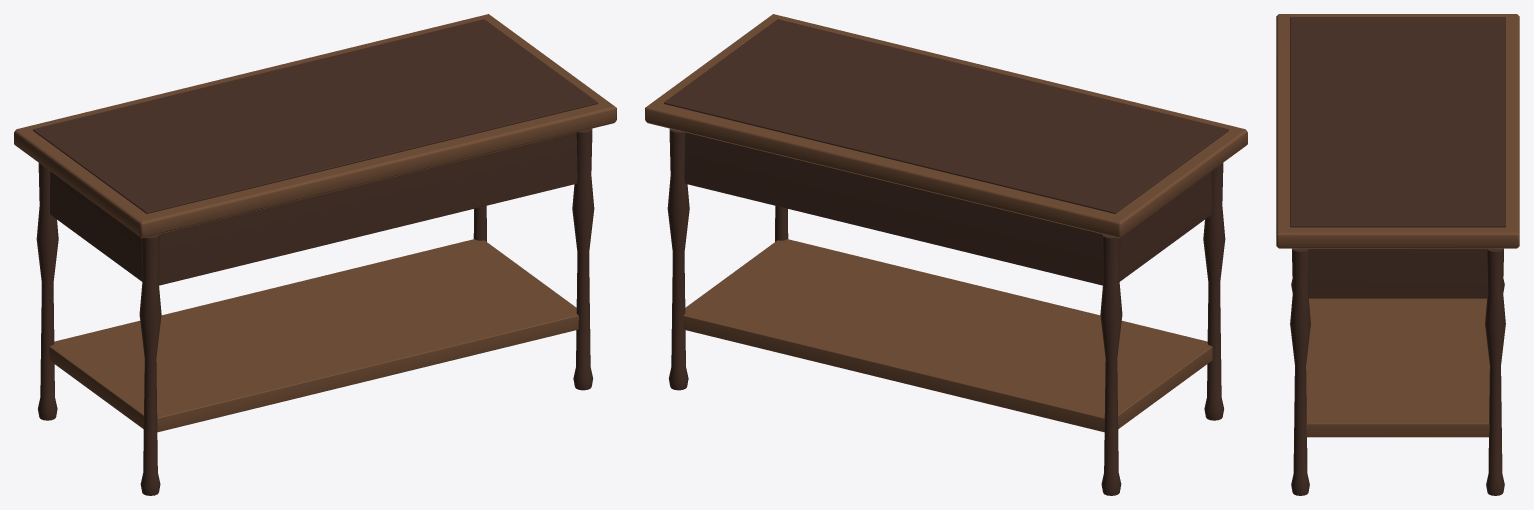
Rendered from rpg-mansion-worktable-01.glb.
The picture shows the model from 3 angles, left to right: view 1: azimuth 30°, elevation 25°; view 2: azimuth 150°, elevation 25°; view 3: azimuth 270°, elevation 25°; orthographic projection. The views are drawn at different scales.
Visible parts, largest first — view 1: rpg-mansion-worktable-01; view 2: rpg-mansion-worktable-01; view 3: rpg-mansion-worktable-01.
Boxes of the visible parts, x1,y1,x2,y2 form: rpg-mansion-worktable-01: (14,14,616,495); rpg-mansion-worktable-01: (645,14,1247,495); rpg-mansion-worktable-01: (1276,14,1519,495).
Bounding box in the file's own units: 1.5 × 0.86 × 0.7.
